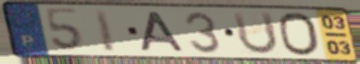3: (182, 10, 224, 55)
5: (41, 6, 87, 54)
A: (139, 10, 188, 53)
I: (92, 8, 118, 54)
O: (275, 10, 324, 57)
U: (229, 10, 281, 57)
